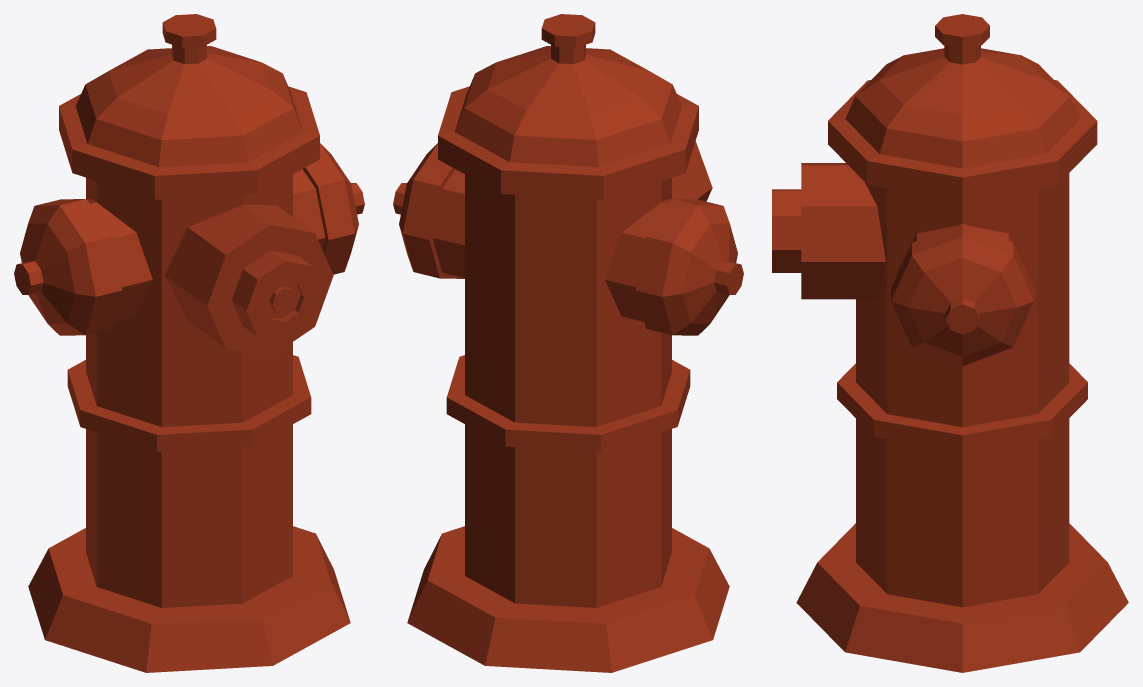
The model's file is Hydrant.glb.
The picture shows the model from 3 angles, left to right: view 1: azimuth 30°, elevation 25°; view 2: azimuth 150°, elevation 25°; view 3: azimuth 270°, elevation 25°; orthographic projection.
Parts seen in each view (by area): view 1: Hydrant; view 2: Hydrant; view 3: Hydrant.
Boxes of the visible parts, x1,y1,x2,y2 form: Hydrant: (14, 14, 364, 672); Hydrant: (393, 14, 743, 672); Hydrant: (772, 14, 1128, 672).
Size of the model in its own units: 0.4433 by 0.735 by 0.4118.
1 material, 1 textured.
